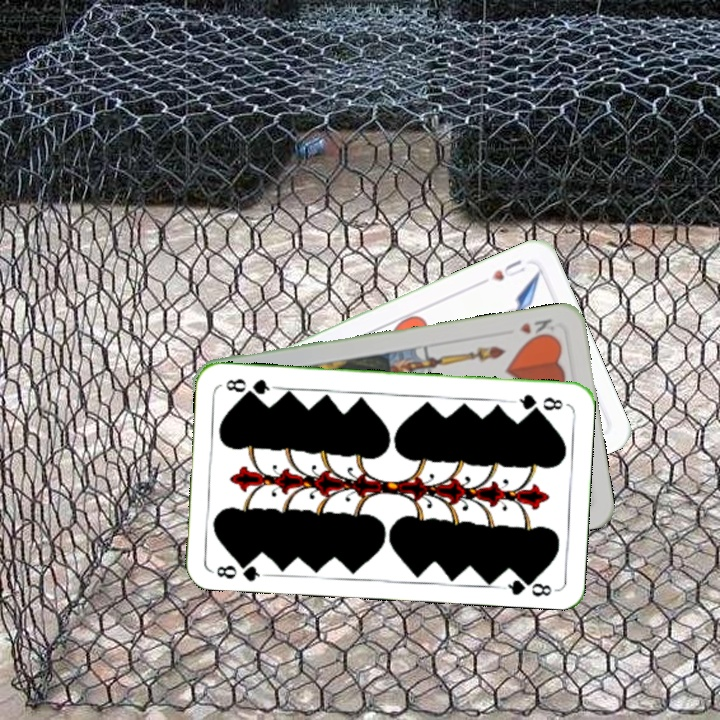G8: (209, 556, 269, 584), (516, 390, 566, 414)
HK: (515, 315, 558, 343)
HU: (487, 255, 528, 284)
